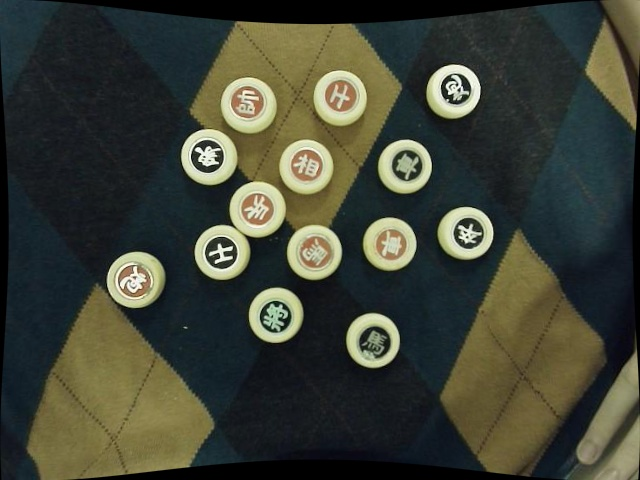Black-Cannon: (436, 69, 477, 108)
Black-Chariot: (385, 143, 426, 185)
Black-Elephant: (188, 134, 229, 175)
Black-General: (256, 298, 293, 335)
Black-Guard: (201, 234, 240, 269)
Black-Horse: (354, 322, 393, 359)
Black-Soldier: (442, 210, 489, 252)
Red-Cannon: (113, 261, 157, 298)
Red-Chariot: (373, 226, 409, 261)
Red-Elephant: (289, 148, 325, 182)
Red-General: (230, 85, 266, 120)
Red-Guard: (324, 77, 358, 113)
Red-Horse: (297, 231, 336, 274)
Red-Soldier: (236, 189, 280, 231)
